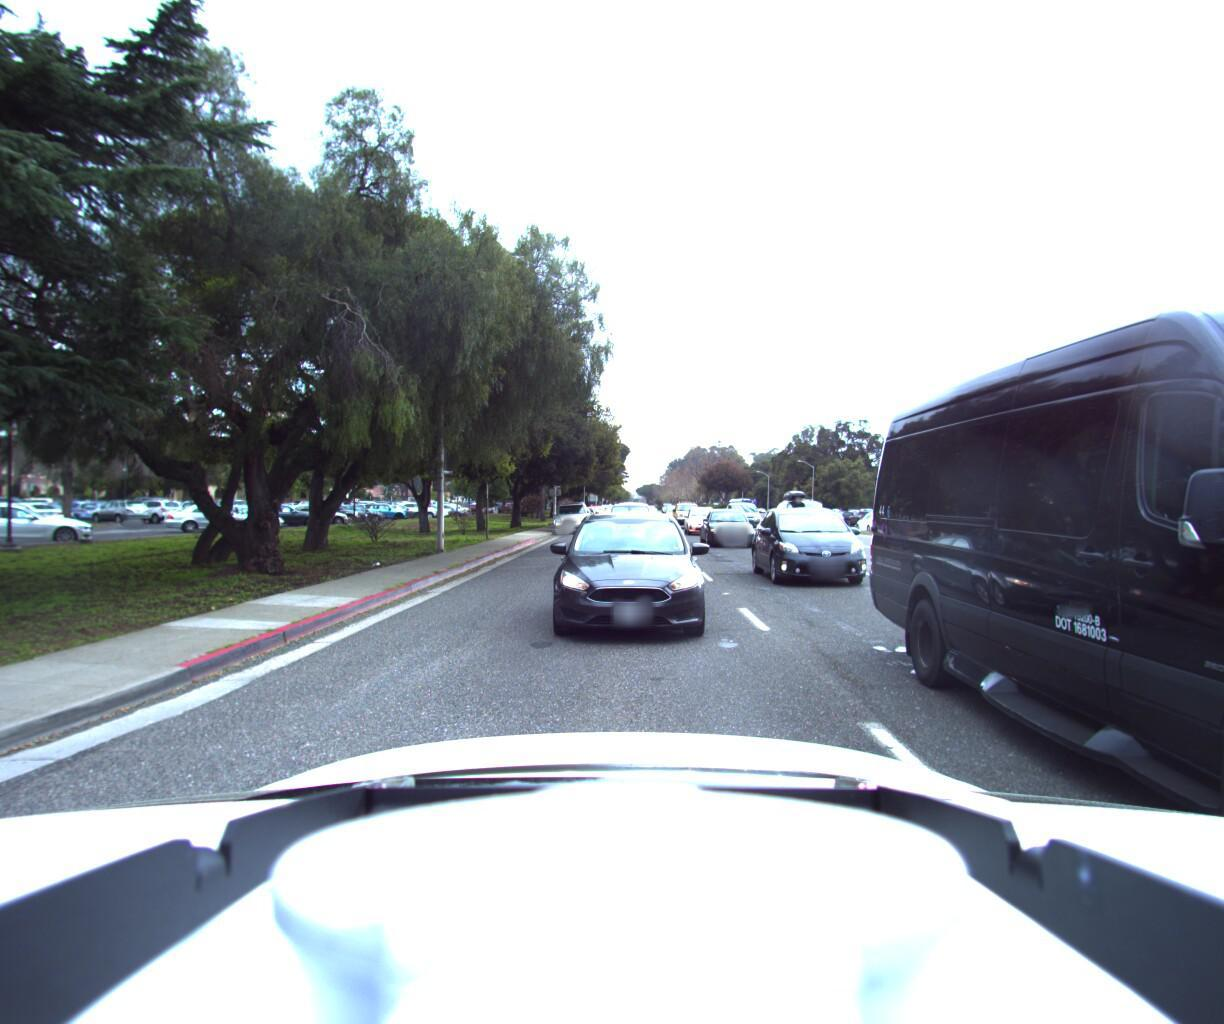car: (542, 509, 711, 654), (748, 505, 888, 596), (766, 488, 840, 547), (699, 507, 761, 550), (602, 502, 657, 546), (551, 501, 592, 535), (681, 507, 724, 539), (847, 505, 894, 533), (729, 505, 771, 536), (670, 502, 706, 531), (583, 505, 607, 526)
other_vehicle: (871, 0, 1224, 1024)
